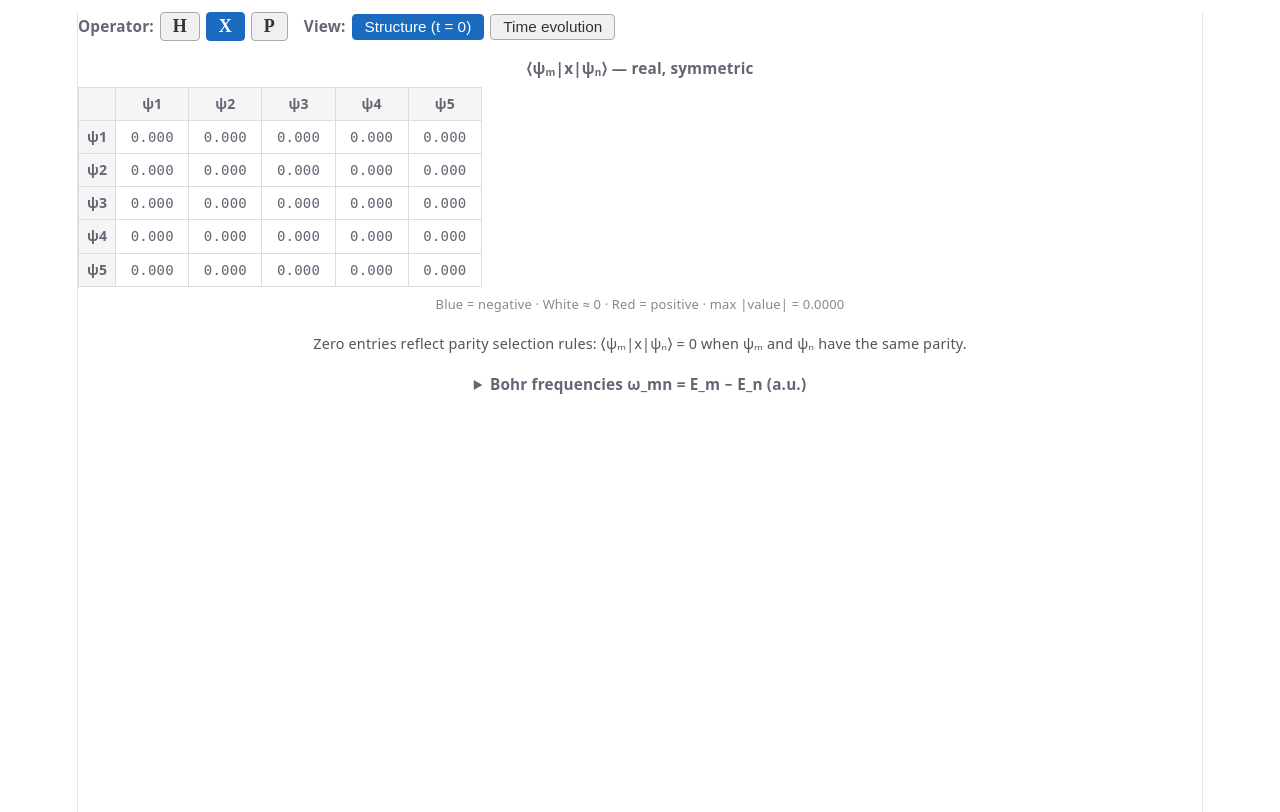
MatrixPanel › Play button toggles to Pause
Click the button "Time evolution".
click(553, 26)  # box [490, 14, 615, 40]
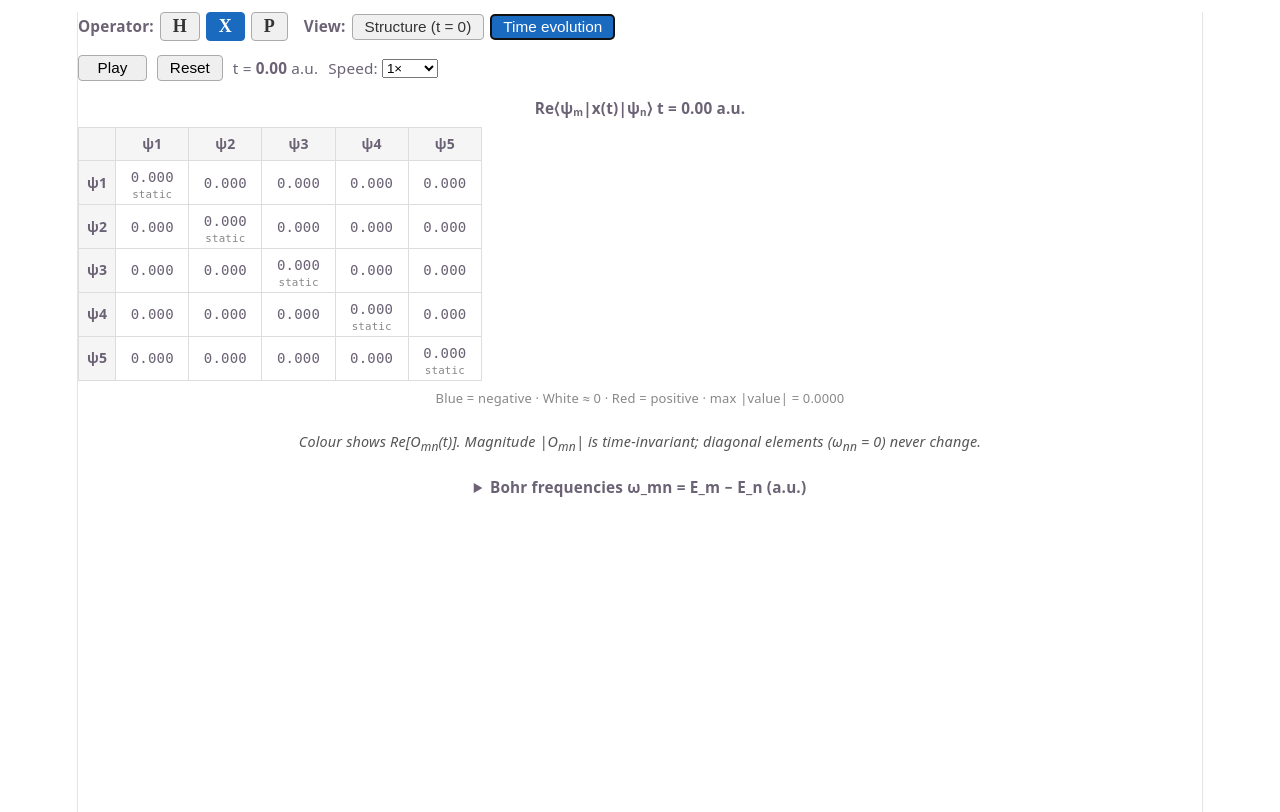
Click the button "Play".
click(112, 68)  # box [78, 55, 147, 81]
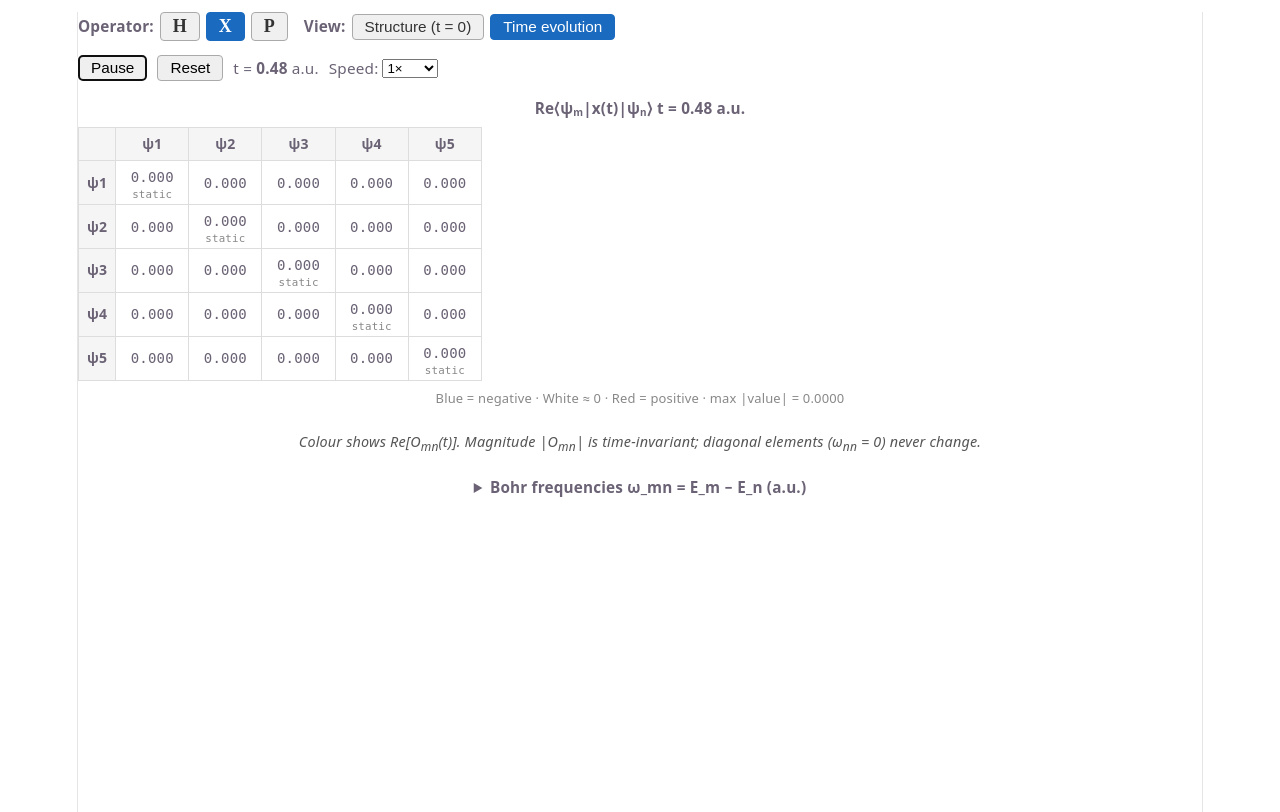
Expected: the button "Pause" is shown, [78, 55, 147, 81]
